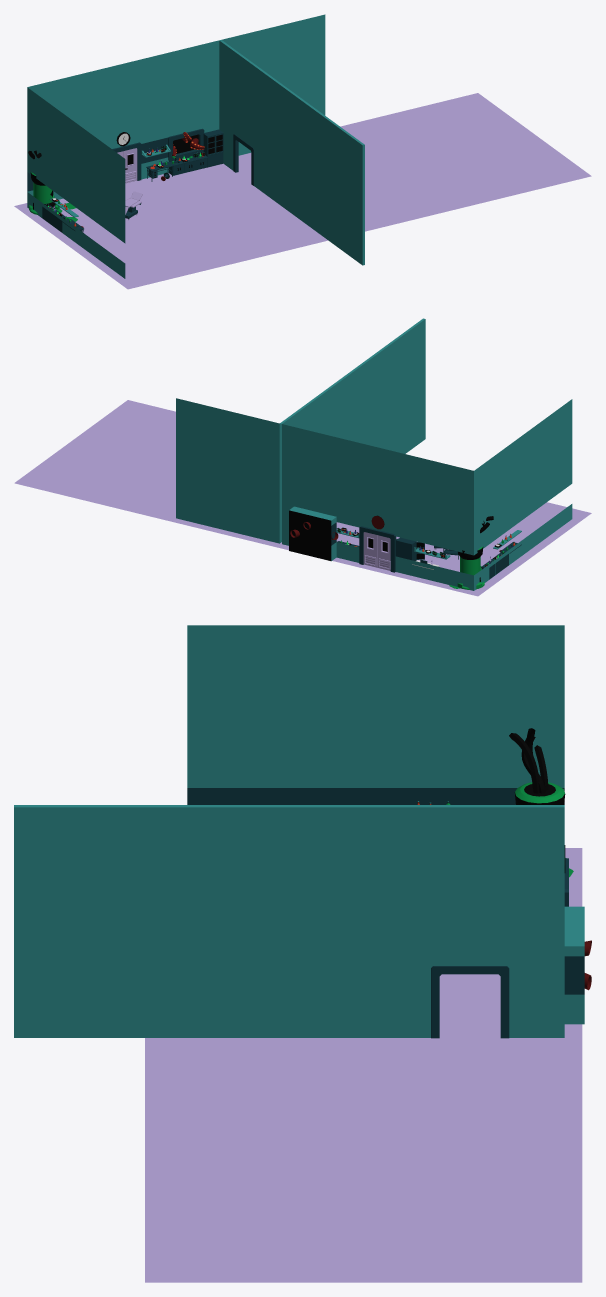
Rendered from OverWorldTestTony5 1.fbx.
3 renders of one model, top to bottom at view 1: azimuth 30°, elevation 25°; view 2: azimuth 150°, elevation 25°; view 3: azimuth 270°, elevation 25°, orthographic. The views are drawn at different scales.
Visible parts, largest first — view 1: Cube.087; view 2: Cube.087; view 3: Cube.087.
Boxes of the visible parts, bbox=[...] form: Cube.087: bbox=[14, 14, 591, 289]; Cube.087: bbox=[14, 318, 591, 596]; Cube.087: bbox=[14, 625, 591, 1282].
Size of the model in its own units: 2185 by 542 by 1228.
